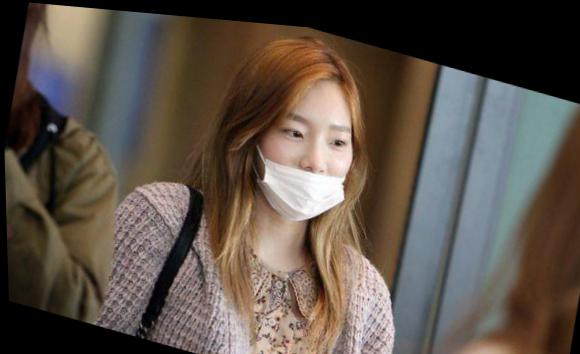WRONG: (244, 92, 369, 223)
